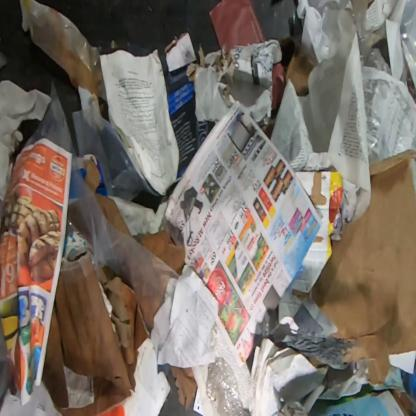cardboard: (311, 147, 415, 384), (165, 32, 286, 126), (289, 171, 344, 294), (160, 54, 195, 115), (158, 363, 197, 410)
soft_plastic: (23, 81, 219, 326), (300, 0, 391, 151), (20, 0, 105, 102), (72, 108, 154, 201), (206, 356, 252, 415), (399, 0, 415, 88), (391, 389, 415, 415)
